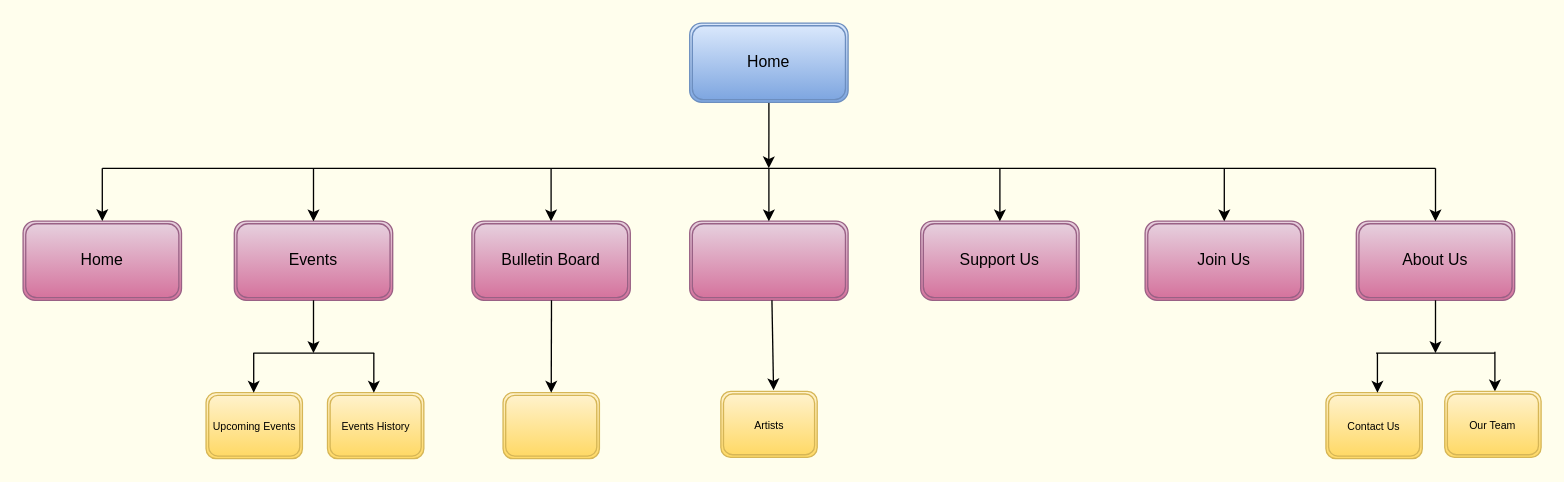
Image size: 1564x482. Some labels were removed from this diagram. Here are the shapes that lost their labels. From the top down, the box of each, then its label:
(688, 220, 848, 300): Musos
(502, 391, 599, 459): New Bulletins
